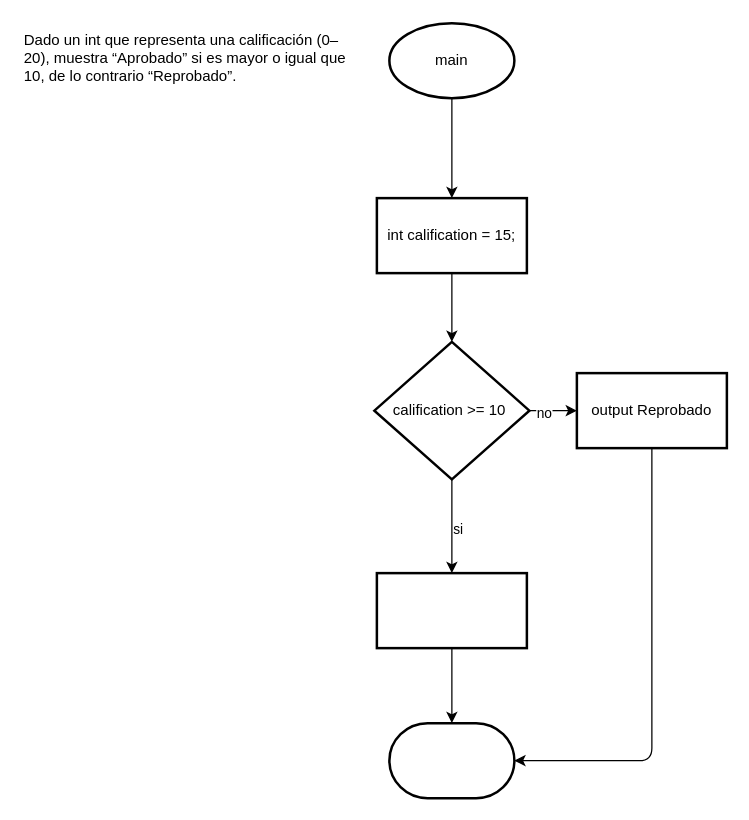
Some shapes in this 749 by 820 pixel diagram are drawn without their labels. The shapes that lost their labels are listed below. From the top down, each one's box as (x1, y1, x2, y2) in pixels, then its label:
(375, 571, 528, 649): output = aprobado
(388, 721, 515, 799): fin
